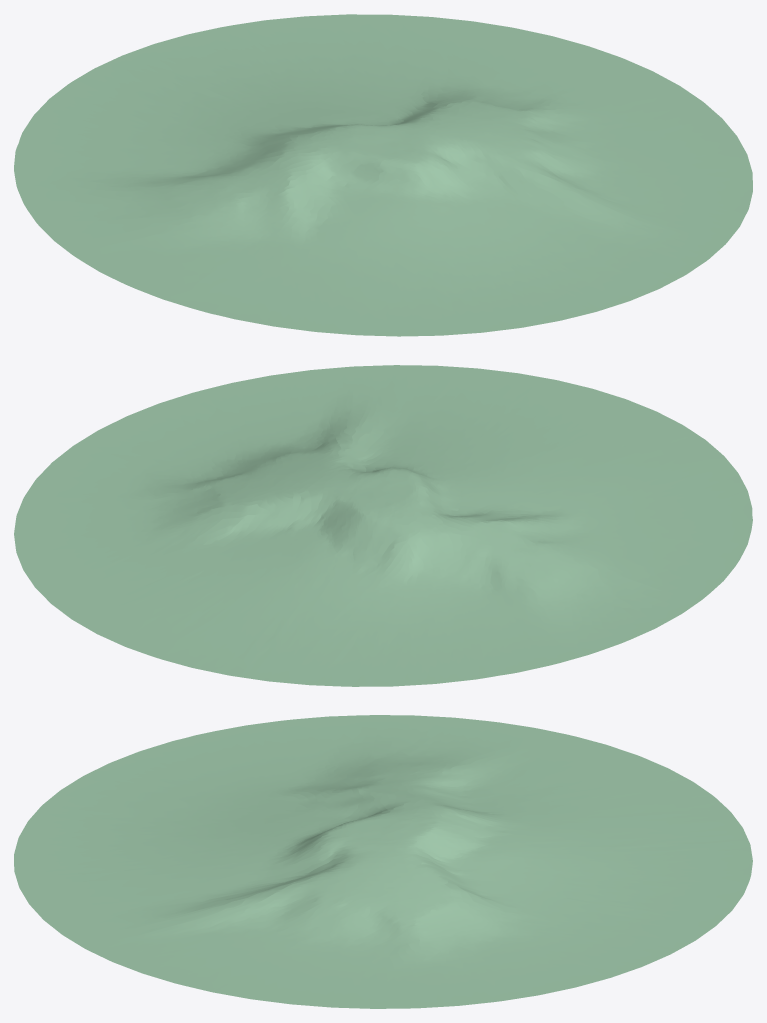
File: island_coral_medium_H.fbx
The picture shows the model from 3 angles, top to bottom: view 1: azimuth 30°, elevation 25°; view 2: azimuth 150°, elevation 25°; view 3: azimuth 270°, elevation 25°; orthographic projection. The views are drawn at different scales.
Visible parts, largest first — view 1: island_coral_medium_H; view 2: island_coral_medium_H; view 3: island_coral_medium_H.
Boxes of the visible parts, <box> form: island_coral_medium_H: <box>14,14,752,336</box>; island_coral_medium_H: <box>14,365,752,686</box>; island_coral_medium_H: <box>14,715,752,1008</box>.
Size of the model in its own units: 9344 by 478 by 9928.
